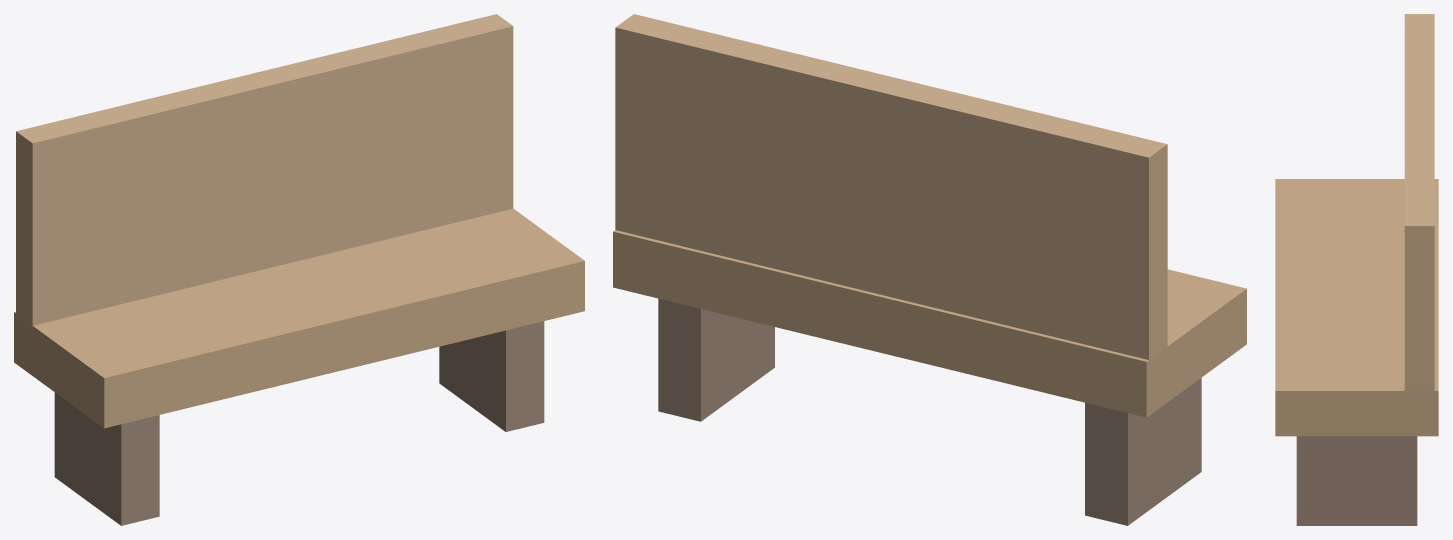
File: bench.glb
3 renders of one model, left to right at view 1: azimuth 30°, elevation 25°; view 2: azimuth 150°, elevation 25°; view 3: azimuth 270°, elevation 25°, orthographic. The views are drawn at different scales.
Parts seen in each view (by area): view 1: back, seat, legs (×2); view 2: back, seat, legs (×2); view 3: seat, back, legs.
Part boxes in pixels (bbox=[...]): back: bbox=[16, 14, 513, 331]; seat: bbox=[14, 208, 584, 428]; legs (×2): bbox=[54, 321, 544, 525]; back: bbox=[615, 14, 1167, 359]; seat: bbox=[613, 230, 1246, 417]; legs (×2): bbox=[658, 298, 1201, 525]; seat: bbox=[1275, 179, 1438, 436]; back: bbox=[1404, 14, 1434, 396]; legs: bbox=[1296, 436, 1417, 525].
Bounding box in the file's own units: 2 × 1.38 × 0.65.
